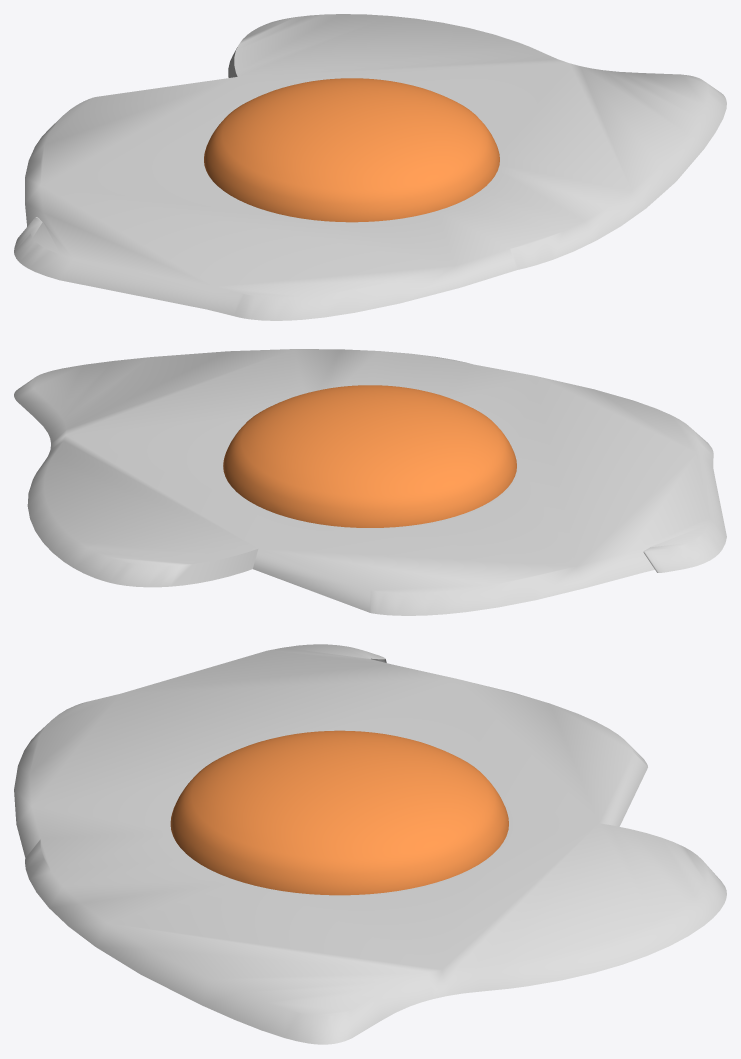
The model's file is egg_broken.glb.
3 views of the same model, one above another, from view 1: azimuth 30°, elevation 25°; view 2: azimuth 150°, elevation 25°; view 3: azimuth 270°, elevation 25° (orthographic). The views are drawn at different scales.
Parts seen in each view (by area): view 1: Object_3, Object_2; view 2: Object_3, Object_2; view 3: Object_3, Object_2.
Part boxes in pixels (x1=…): Object_3: x1=14, y1=14, x2=726, y2=320; Object_2: x1=204, y1=78, x2=499, y2=222; Object_3: x1=14, y1=349, x2=726, y2=615; Object_2: x1=223, y1=385, x2=516, y2=527; Object_3: x1=14, y1=644, x2=726, y2=1044; Object_2: x1=170, y1=730, x2=508, y2=895.
Bounding box in the file's own units: 223 × 21.01 × 172.
